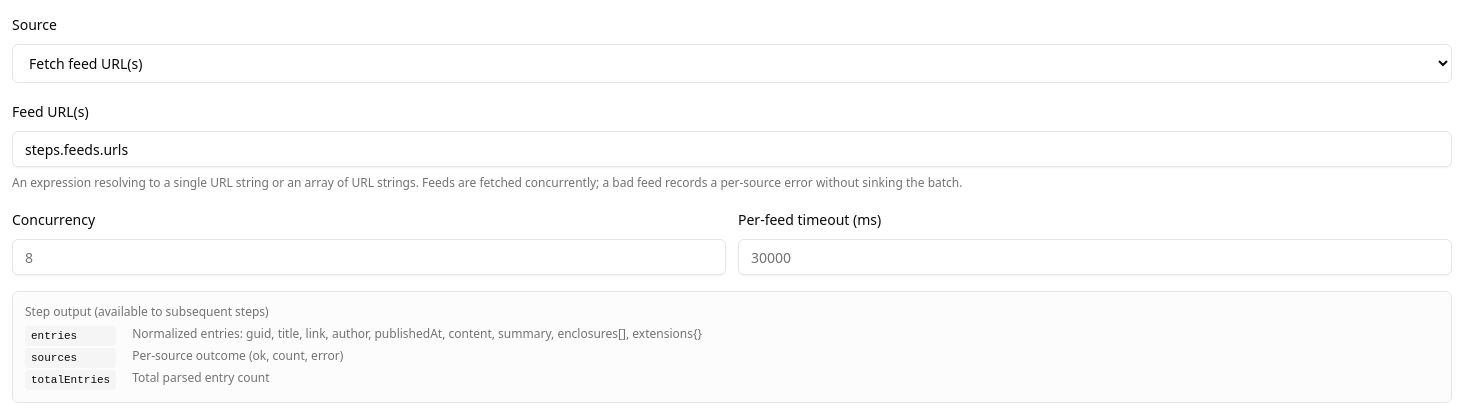
Test case: XmlFeedParseConfig › switches to raw-XML mode, hiding the URL/concurrency inputs
Select "Parse raw XML from a prior step" in the dropdown at point(732, 64), box [12,44,1452,83]
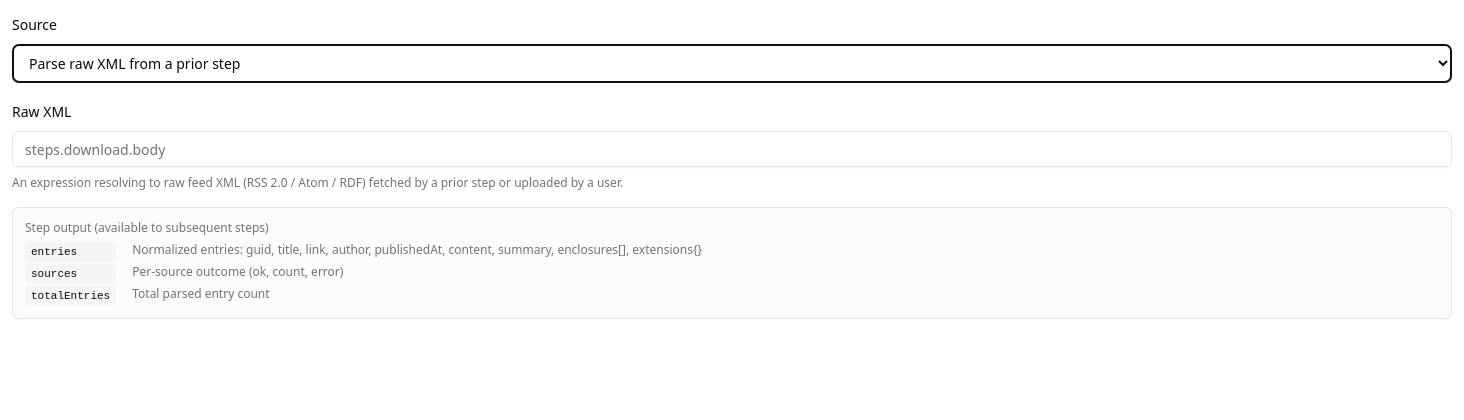
Expected: the field with placeholder "steps.download.body" is shown, [12,131,1452,167]
Expected: the number field with placeholder "8" is gone
